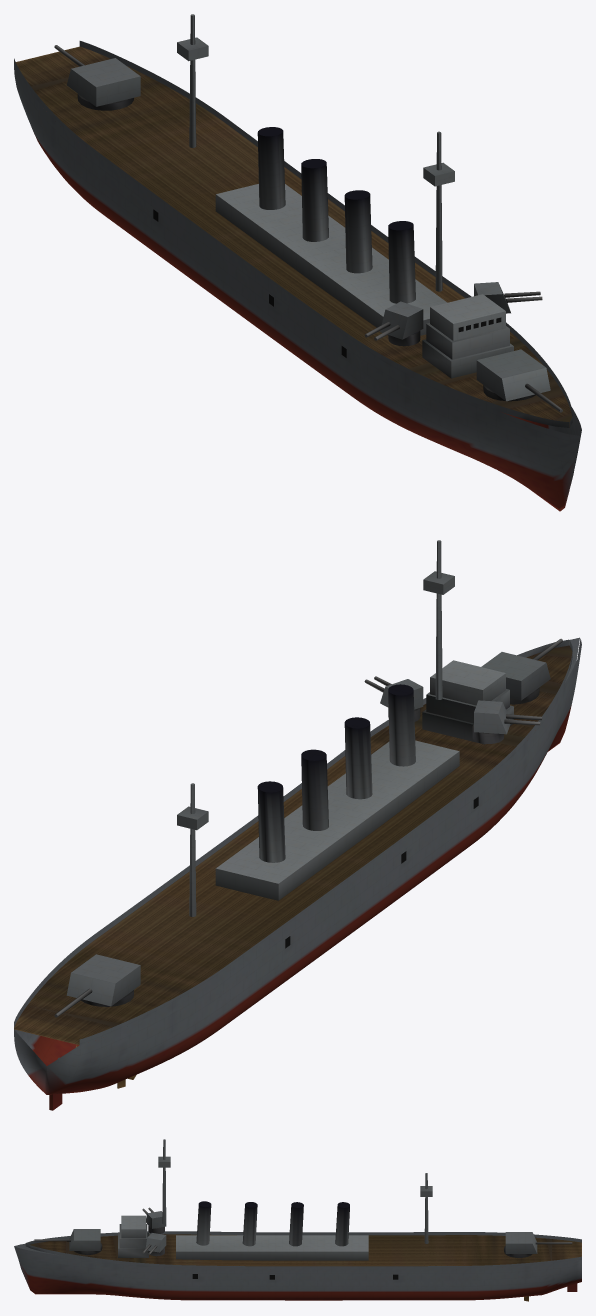
The model's file is model_built.glb.
3 views of the same model, one above another, from view 1: azimuth 30°, elevation 25°; view 2: azimuth 150°, elevation 25°; view 3: azimuth 270°, elevation 25° (orthographic). The views are drawn at different scales.
Parts seen in each view (by area): view 1: main; view 2: main; view 3: main.
Boxes of the visible parts, x1,y1,x2,y2 form: main: (14,14,581,511); main: (14,540,581,1110); main: (14,1139,581,1301).
Bounding box in the file's own units: 27.96 × 44.45 × 147.
Materials: 2 (2 with a texture image).
